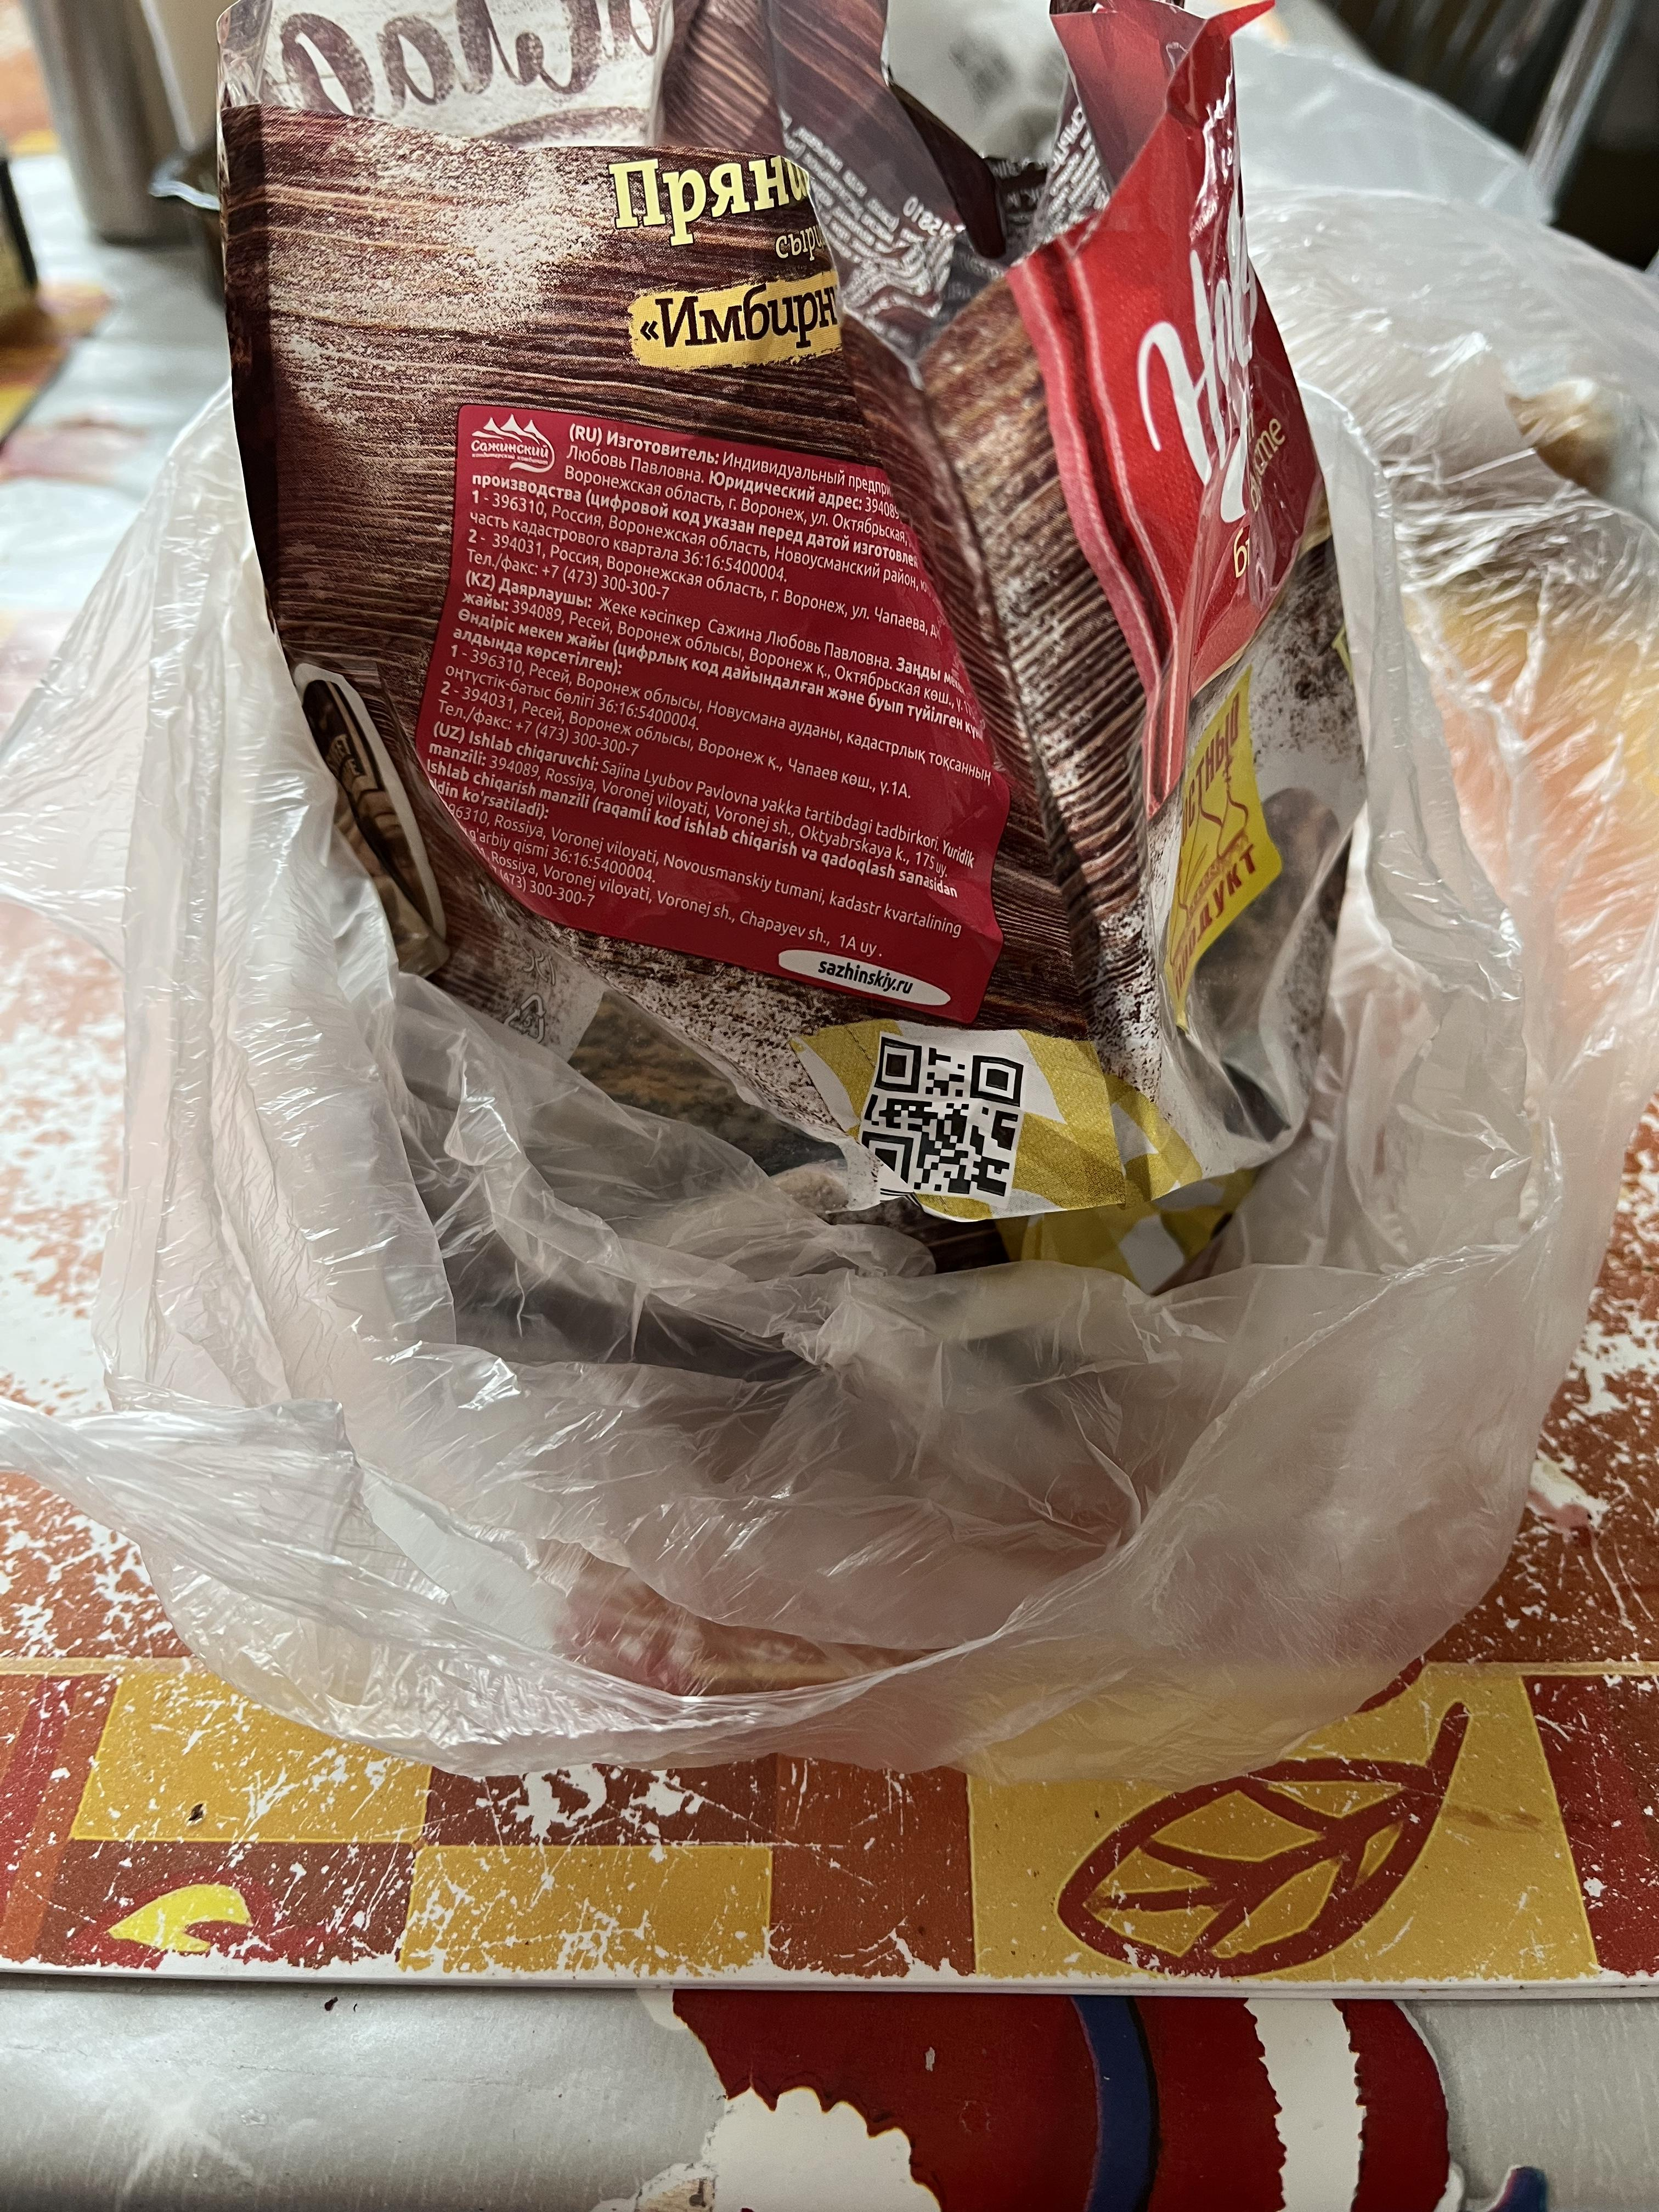qrcode: (861, 1038, 1025, 1198)
